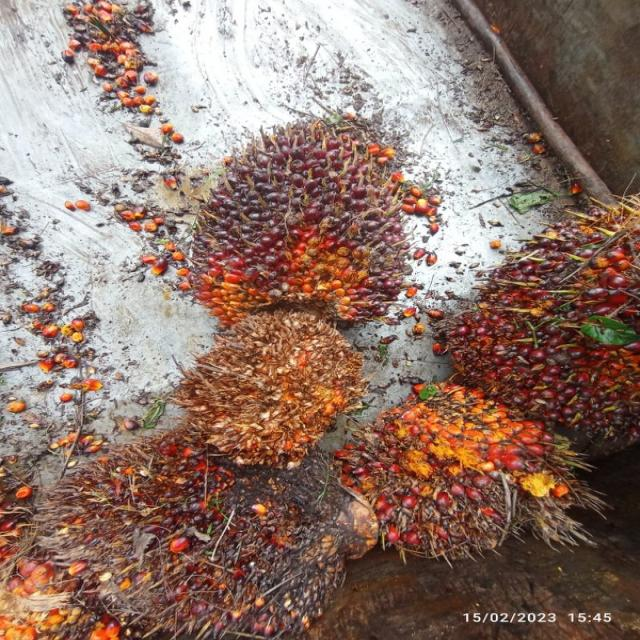fraksi 1: (6, 371, 372, 640), (140, 96, 444, 333), (419, 164, 640, 471)
fraksi 3: (311, 360, 587, 565)
fraksi 4: (162, 316, 367, 466)
